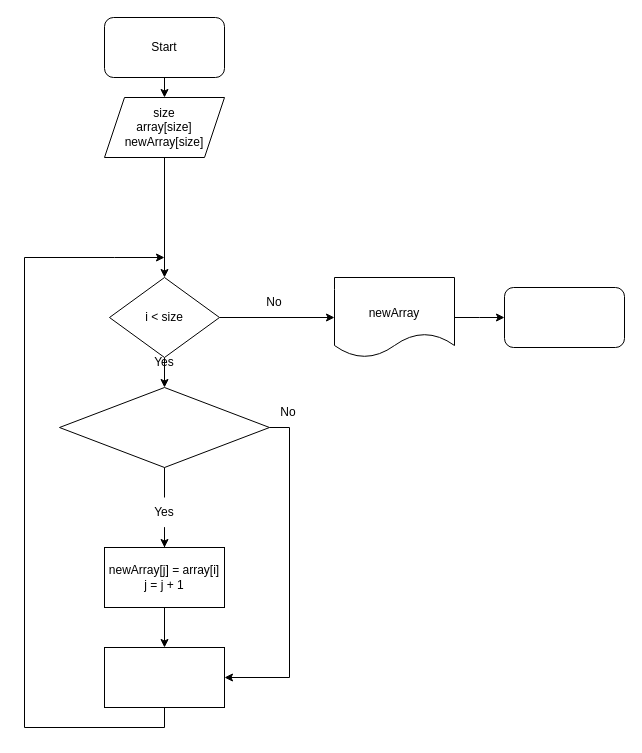
This 642x753 diagram has some shape labels left out. The shapes that lost their labels are listed below. From the top down, each one's centre as x and y in pixels, then its label:
[564,317]: Finish
[164,427]: array[i].Length <= 3
[164,677]: i = i +1
